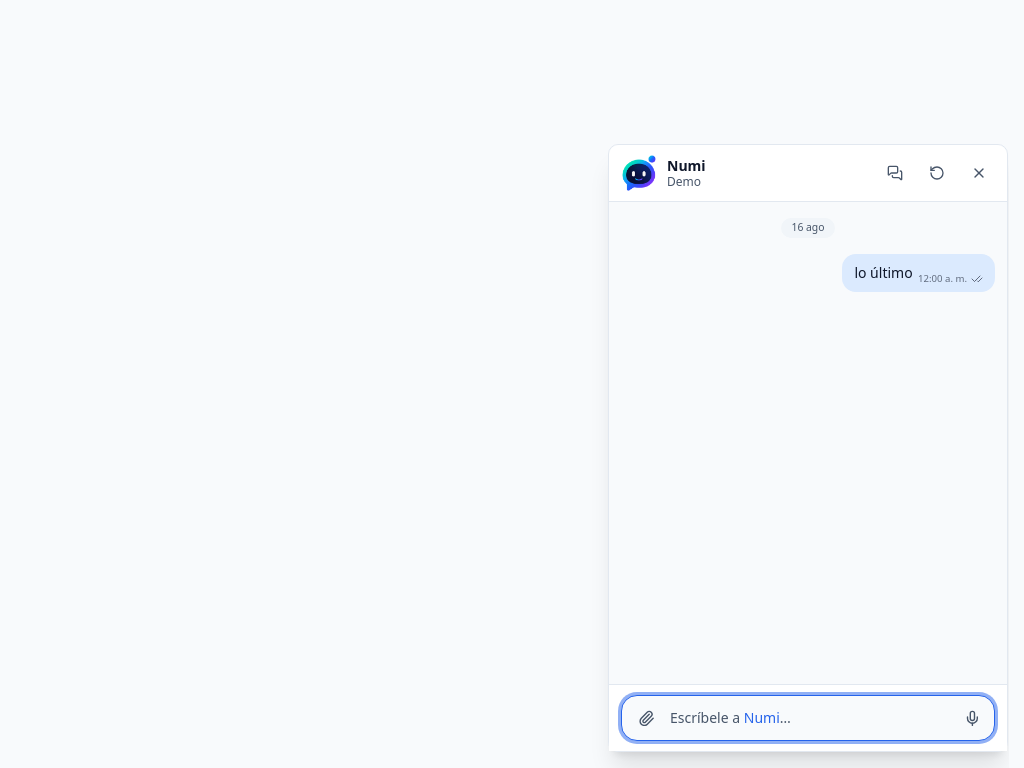
Scenario: sin resultados se dice, con el término que se buscó
The image size is (1024, 768).
Click the button named "Ver mis conversaciones" at point(895, 173), box [879,157,911,189]
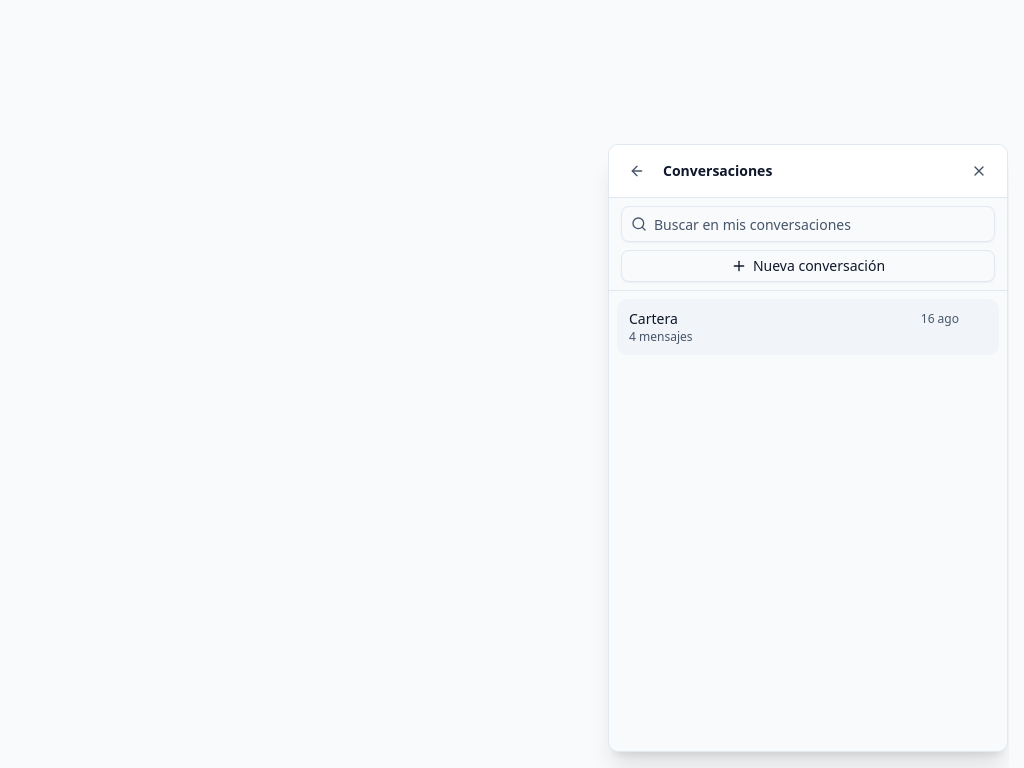
Type "zzz" into the search field labelled "Buscar en mis conversaciones" at point(808, 224), box [621,206,995,242]
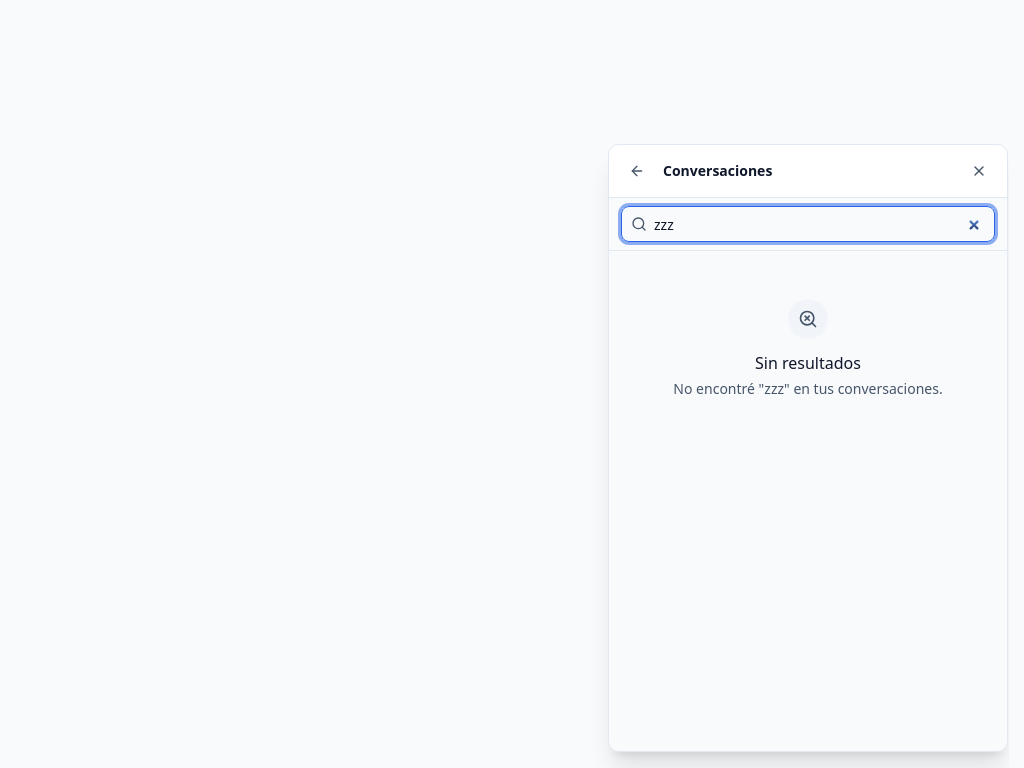
Expected: the text "Sin resultados" is shown, [755,352,861,374]
Expected: the text "No encontré \"zzz\" en tus conversaciones." is shown, [673,379,943,399]
